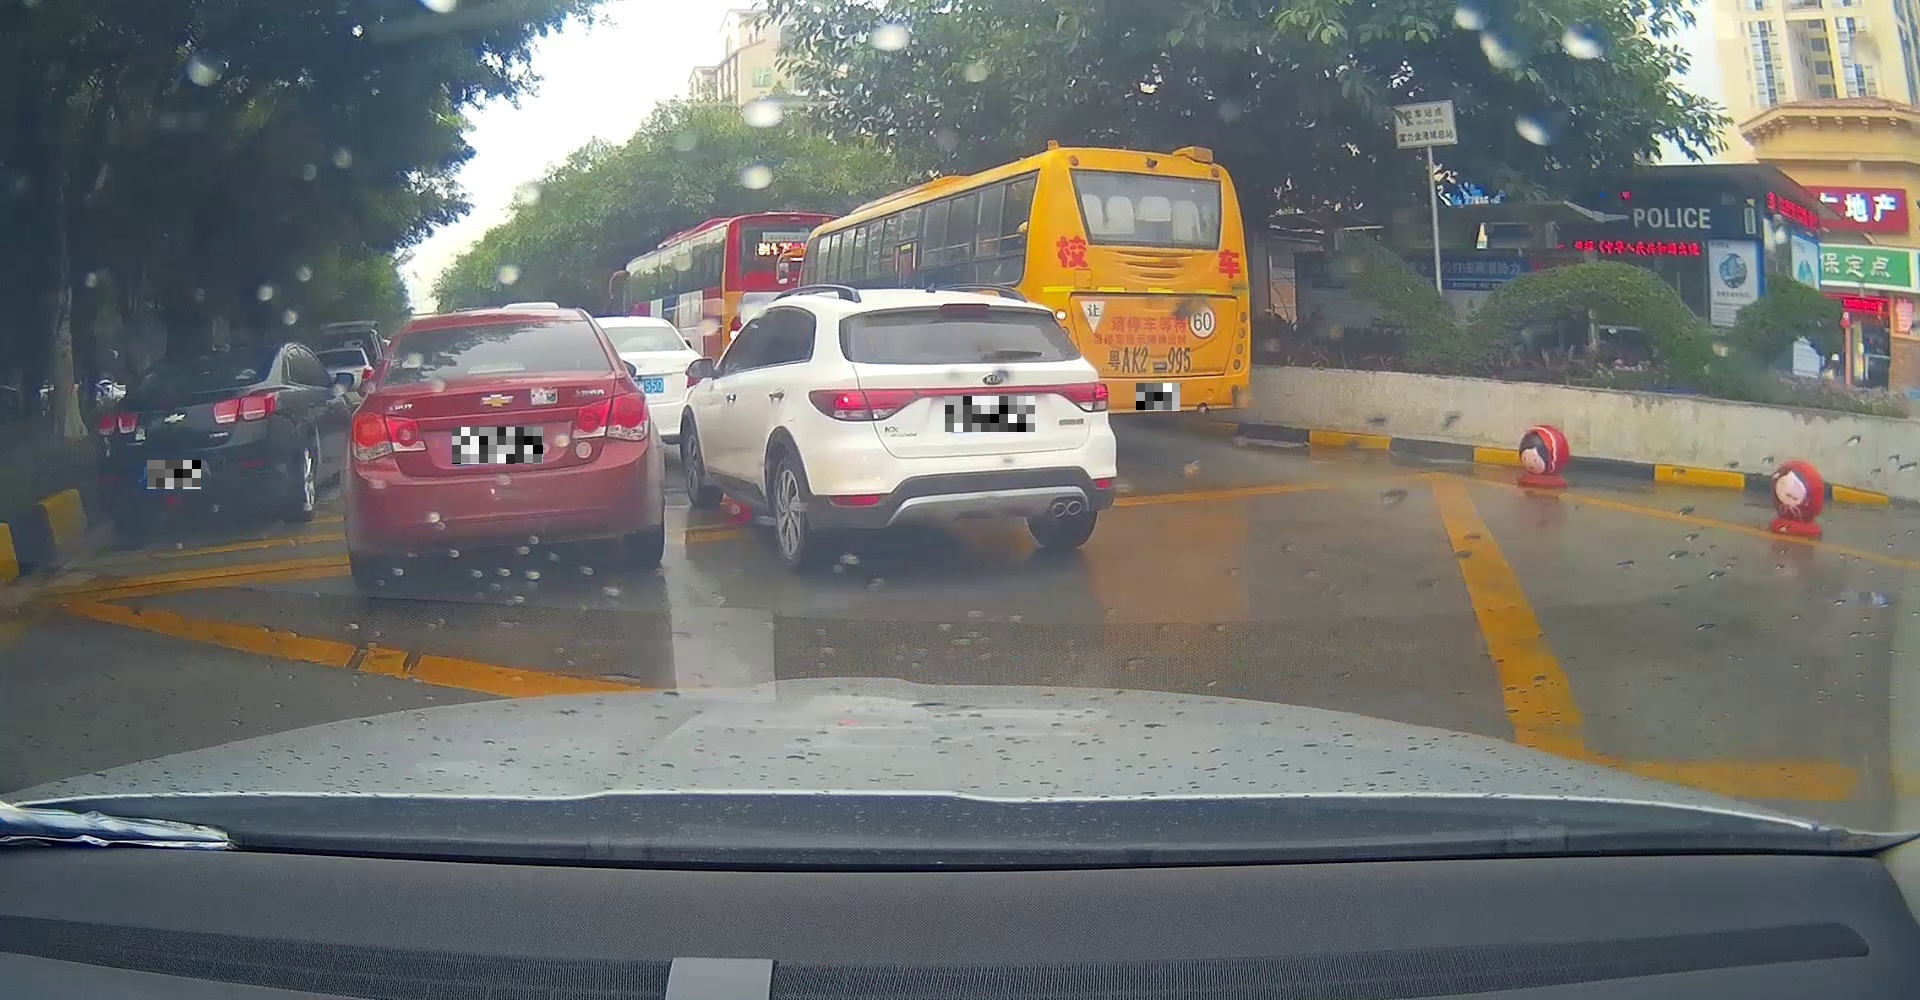L_light: (348, 410, 427, 461), (808, 388, 916, 423), (99, 412, 138, 437)
R_light: (571, 390, 651, 442), (215, 392, 276, 424), (1055, 379, 1110, 412)
T_light: (469, 362, 524, 374), (940, 303, 990, 310), (194, 357, 221, 360)
day-no: (340, 307, 665, 582), (803, 289, 1117, 570), (94, 340, 286, 539)
plate_1: (147, 459, 201, 489)
plate_2: (452, 426, 543, 464)
plate_3: (945, 396, 1035, 431)
plate_4: (1137, 383, 1180, 411)
